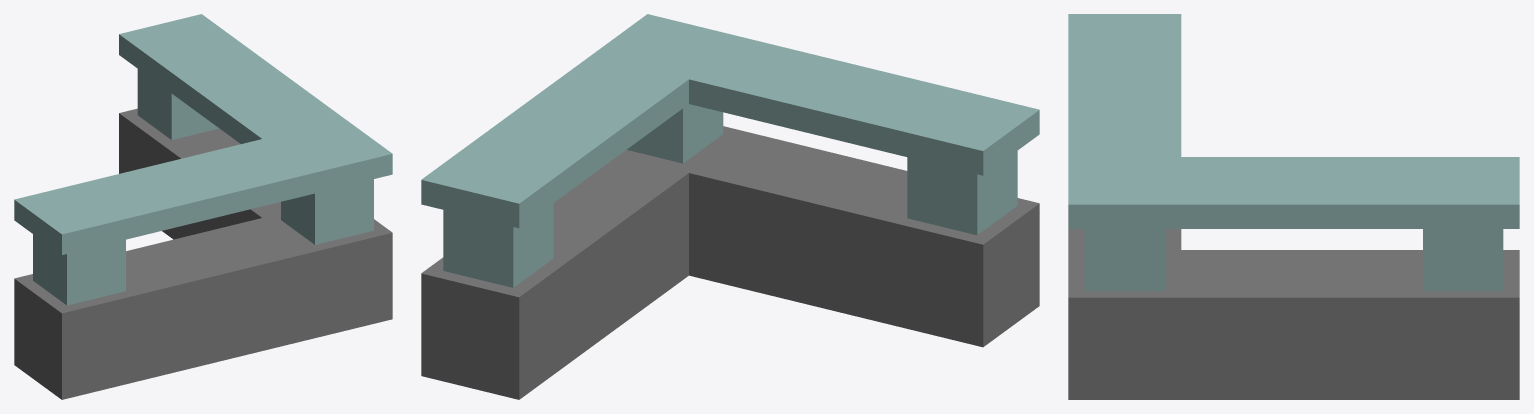
3 views of the same model, side by side, from view 1: azimuth 30°, elevation 25°; view 2: azimuth 150°, elevation 25°; view 3: azimuth 270°, elevation 25° (orthographic). The views are drawn at different scales.
Parts seen in each view (by area): view 1: Object001; view 2: Object001; view 3: Object001.
Part boxes in pixels (x1=…): Object001: x1=14, y1=14, x2=392, y2=399; Object001: x1=421, y1=14, x2=1039, y2=399; Object001: x1=1068, y1=14, x2=1519, y2=399.
Size of the model in its own units: 400 by 191 by 400.
